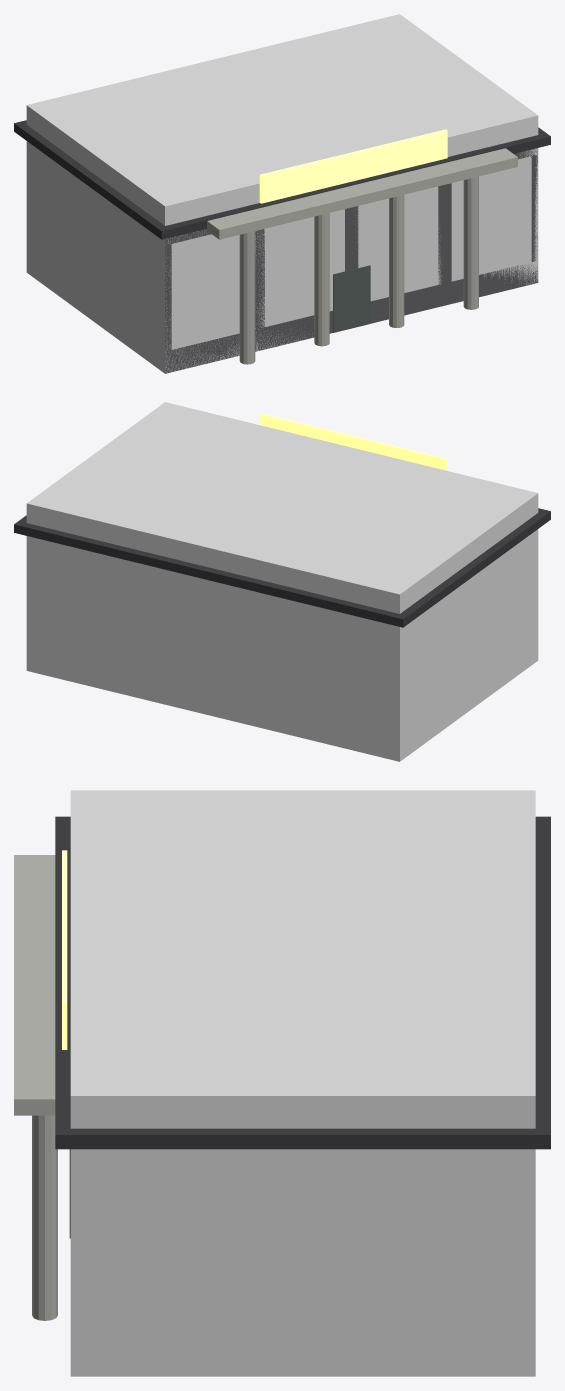
File: lobby_granit.glb
3 renders of one model, top to bottom at view 1: azimuth 30°, elevation 25°; view 2: azimuth 150°, elevation 25°; view 3: azimuth 270°, elevation 25°, orthographic. The views are drawn at different scales.
Visible parts, largest first — view 1: lobby_granit-col, shopfront, pediment, sign_board, roof, door, column, column.001, column.003, column.002; view 2: lobby_granit-col, roof, sign_board; view 3: lobby_granit-col, roof, pediment, column.003, sign_board.
Part boxes in pixels (box(x1,y1,x2,y2)): lobby_granit-col: box(26, 14, 538, 373); shopfront: box(165, 148, 538, 373); pediment: box(205, 148, 517, 239); sign_board: box(259, 129, 447, 203); roof: box(14, 120, 550, 239); door: box(333, 265, 370, 332); column: box(239, 231, 255, 364); column.001: box(314, 213, 329, 346); column.003: box(463, 176, 478, 309); column.002: box(389, 195, 404, 327); lobby_granit-col: box(26, 402, 538, 761); roof: box(14, 508, 550, 627); sign_board: box(259, 413, 447, 470); lobby_granit-col: box(70, 790, 535, 1376); roof: box(55, 816, 550, 1149); pediment: box(14, 855, 55, 1115); column.003: box(32, 1115, 57, 1320); sign_board: box(62, 850, 67, 1049).
Bounding box in the file's own units: 14.6 × 6.35 × 10.4.
